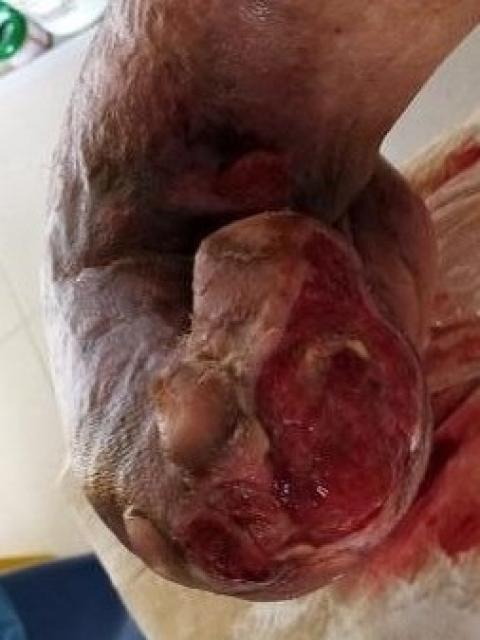wound: (250, 228, 423, 556)
